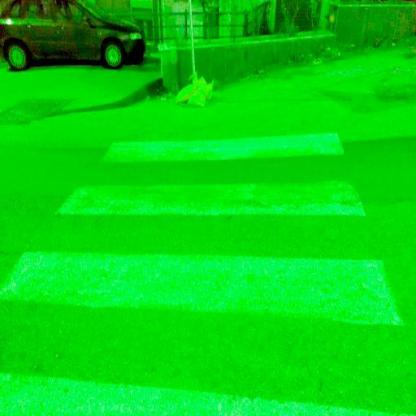crosswalk: (48, 127, 376, 231)
